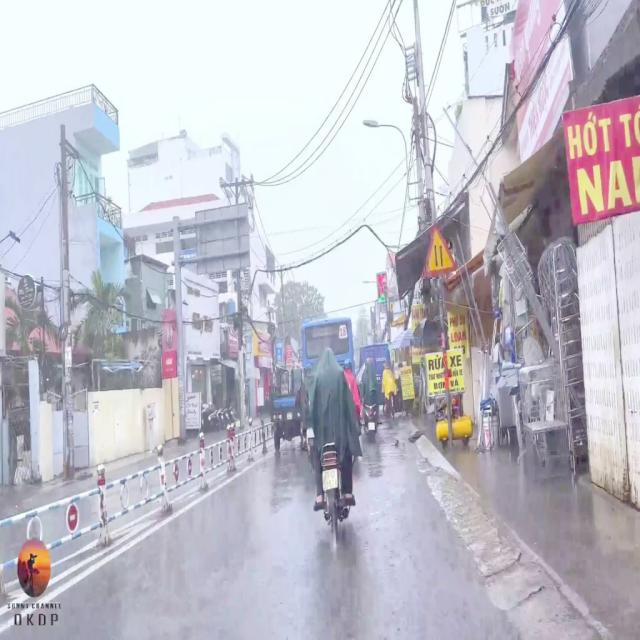khac: (421, 221, 456, 279)
